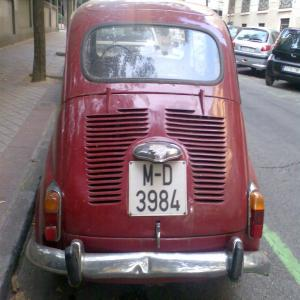Vehicle-registration-plate: (130, 155, 186, 228), (283, 66, 300, 77), (241, 47, 255, 53)
